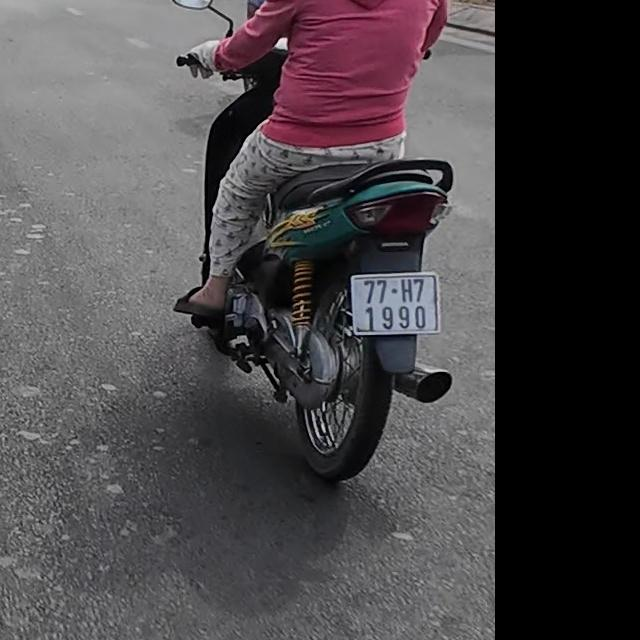license-plate: (349, 271, 441, 336)
